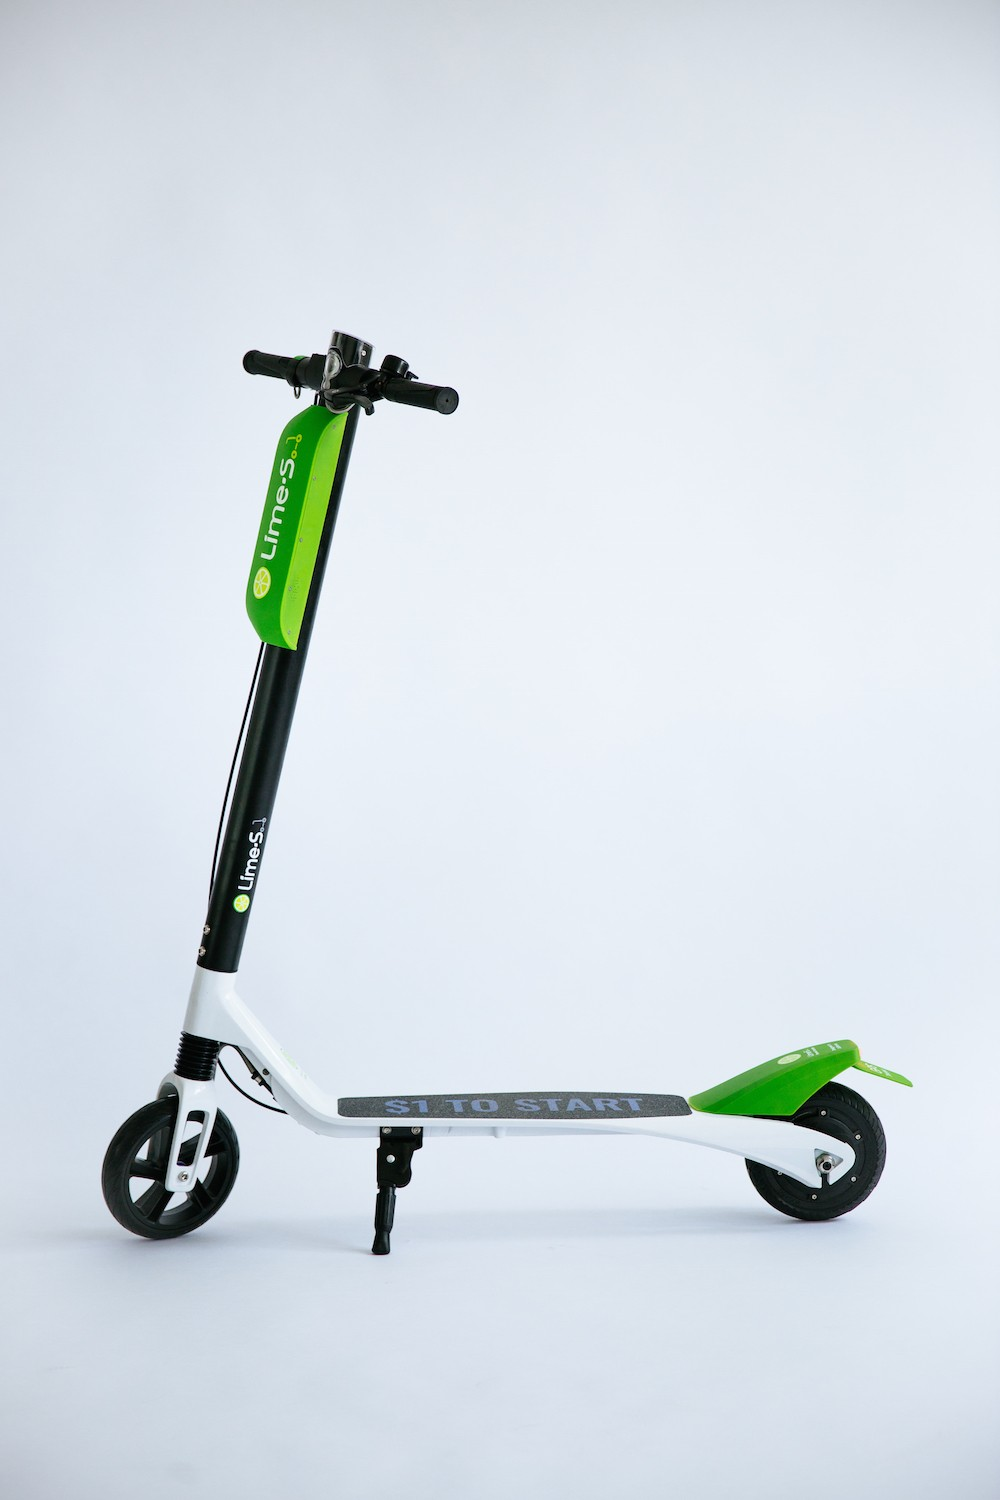scooter: (94, 329, 921, 1256)
